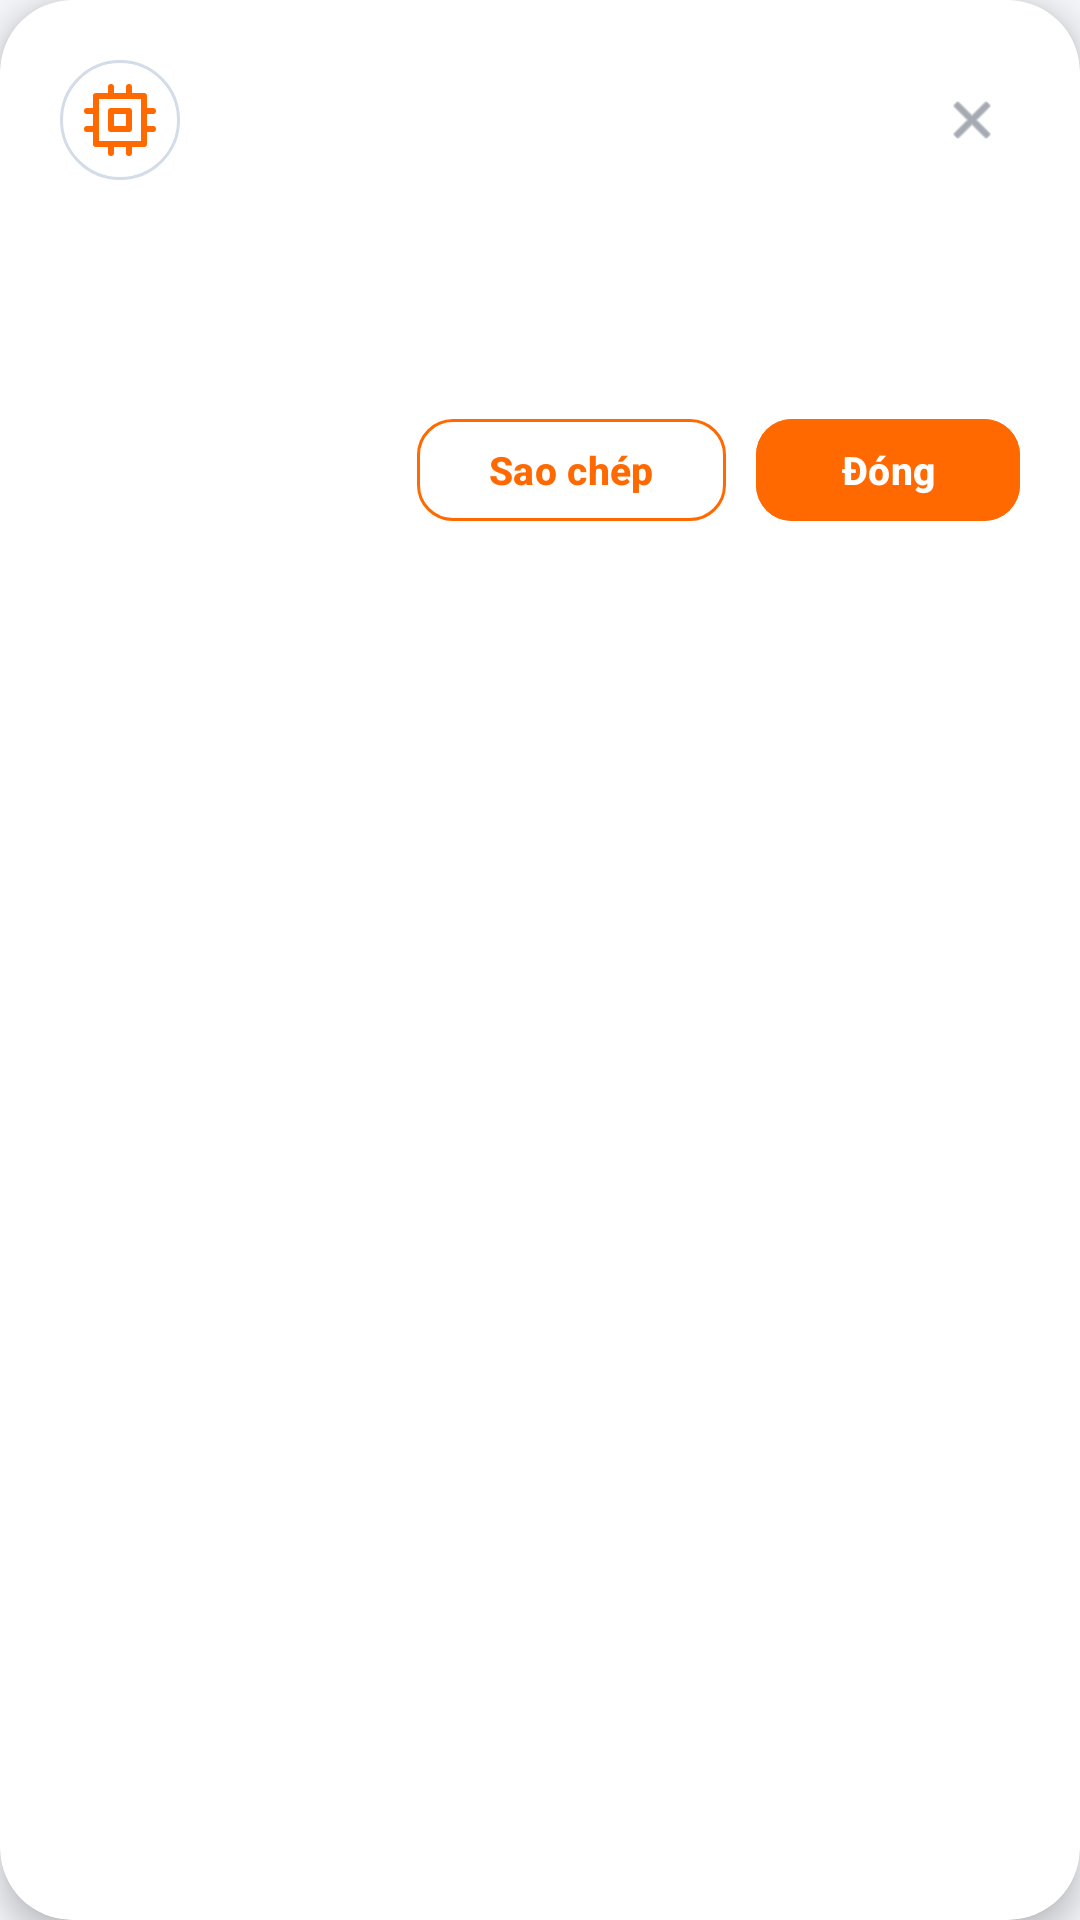

Locate icon controls on the screen. Image size 1080 × 1920, boxes as (x1, y1, x2, y2).
close clear cancel: (953, 101, 991, 139)
cpu: (84, 84, 156, 156)
